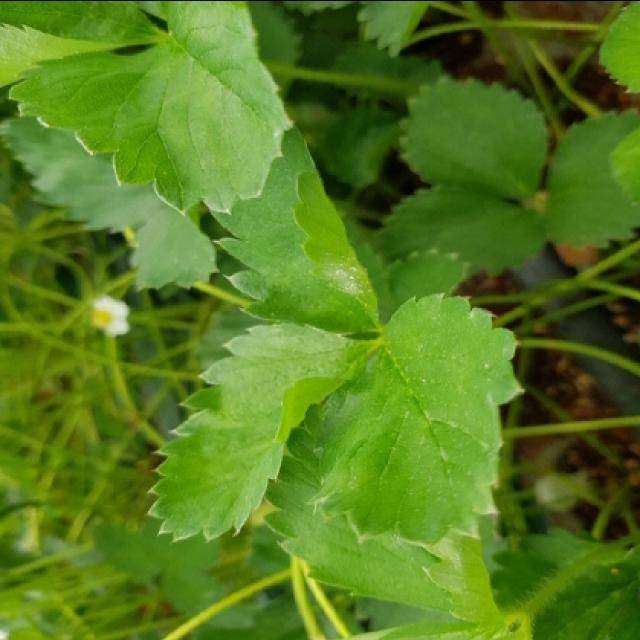Powdery Mildew Leaf: (207, 121, 384, 335)
